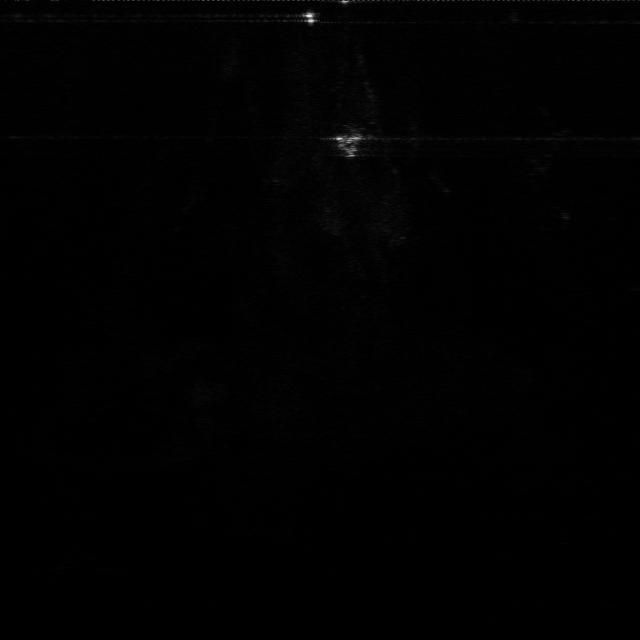rov: (328, 133, 369, 160)
